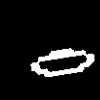chain: (31, 48, 93, 76)
